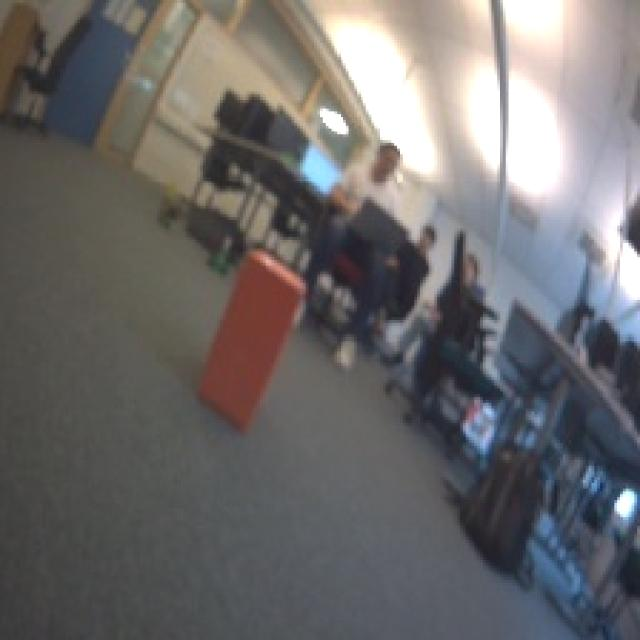robot: (202, 238, 240, 274), (154, 196, 184, 234)
target: (194, 246, 308, 432)
